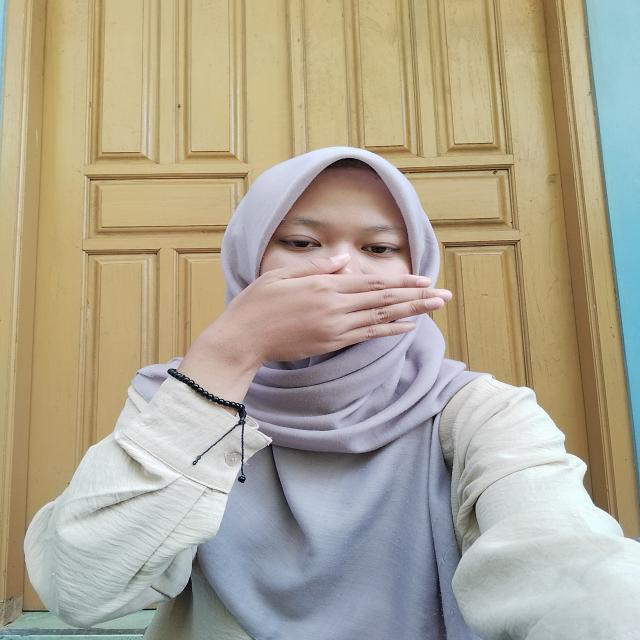buruk: (207, 241, 458, 365)
